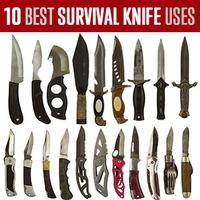knife: (43, 41, 72, 121), (174, 31, 198, 122), (68, 32, 90, 125), (108, 36, 130, 127), (90, 34, 110, 128), (28, 37, 48, 128), (128, 39, 150, 118), (152, 36, 171, 126), (161, 121, 181, 200), (6, 32, 22, 130), (144, 123, 163, 200), (71, 123, 90, 200), (110, 126, 128, 200), (91, 126, 109, 200), (3, 126, 20, 200), (39, 128, 56, 200), (126, 124, 142, 200), (21, 130, 38, 200), (57, 125, 72, 200), (179, 127, 194, 199)
